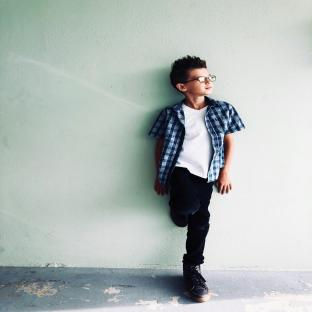Human: (149, 55, 245, 302)
